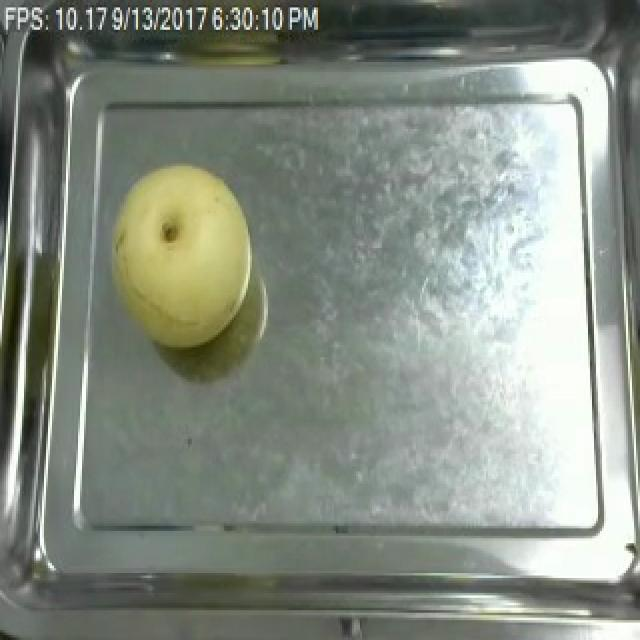Fruit: (94, 152, 262, 358)
